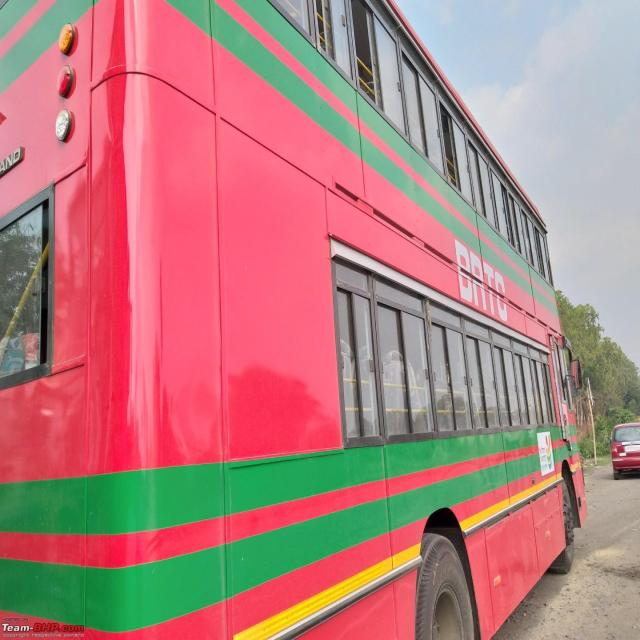Double decker: (1, 1, 599, 640)
